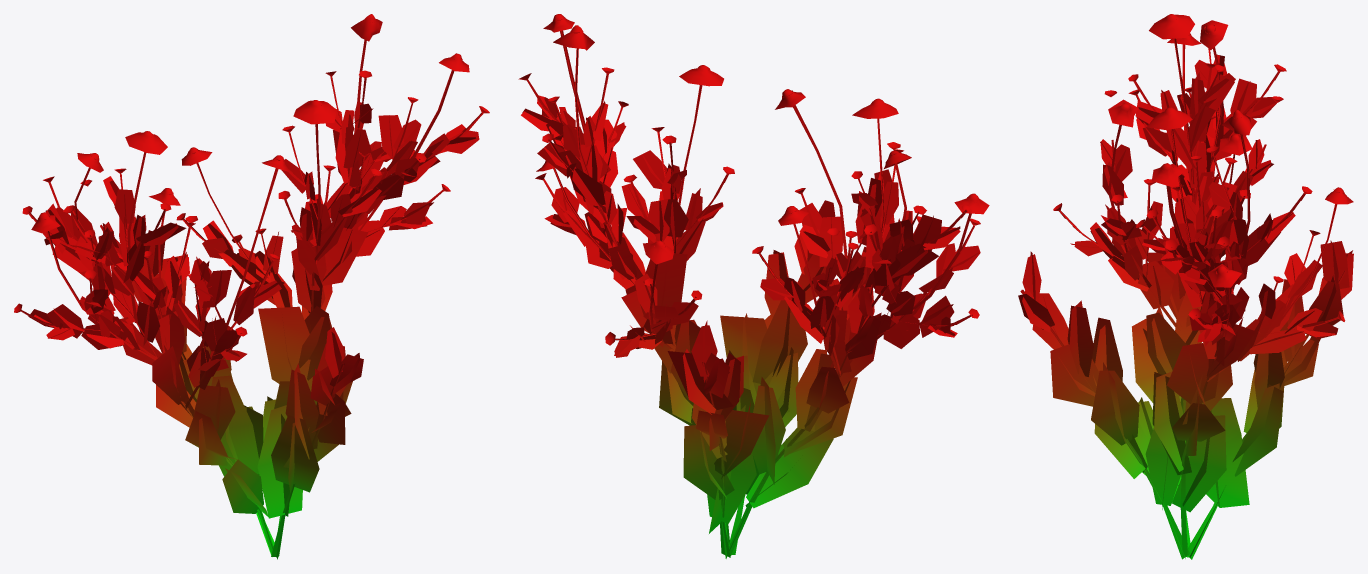
File: Chamomile_LOD2_Var2.fbx
3 views of the same model, side by side, from view 1: azimuth 30°, elevation 25°; view 2: azimuth 150°, elevation 25°; view 3: azimuth 270°, elevation 25° (orthographic). The views are drawn at different scales.
Visible parts, largest first — view 1: _d784_Var2_LOD2; view 2: _d784_Var2_LOD2; view 3: _d784_Var2_LOD2.
Boxes of the visible parts, x1,y1,x2,y2 form: _d784_Var2_LOD2: [14, 14, 489, 559]; _d784_Var2_LOD2: [518, 14, 989, 558]; _d784_Var2_LOD2: [1018, 14, 1353, 559].
Bounding box in the file's own units: 57.99 × 60.42 × 36.06.
